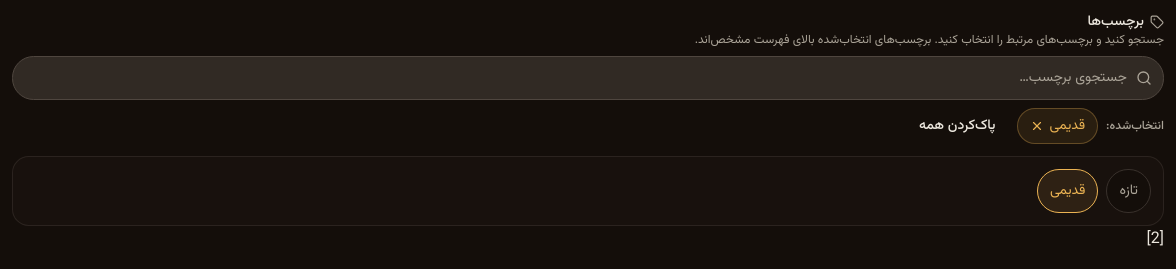
Test: TagSelector › preserves hydrated assignments and adds canonical numeric IDs
This screenshot has width=1176, height=269.
Click the button "تازه". click: (1129, 191)
box: x1=1106 y1=169 x2=1151 y2=213
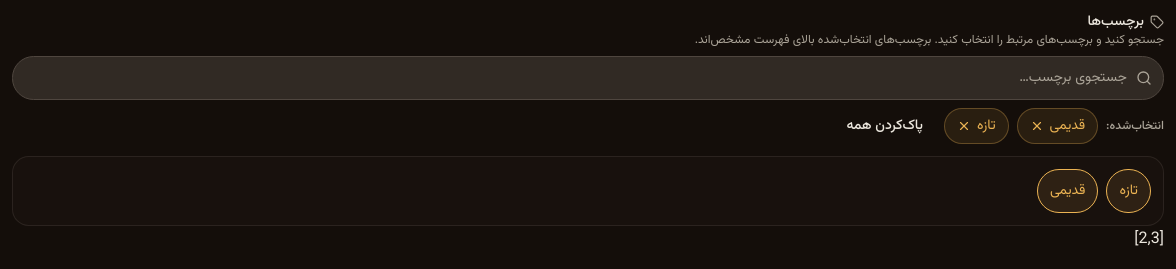
Check: the text with test id "selected" reads "[2,3]", box x1=1134 y1=227 x2=1164 y2=252
